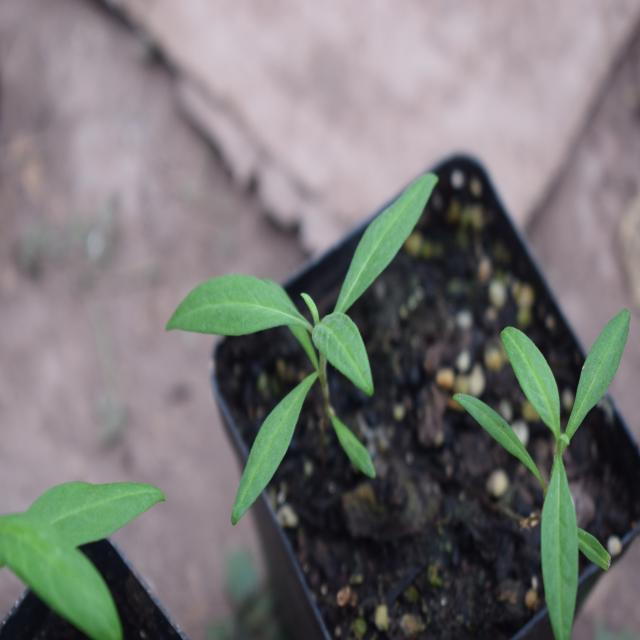white_smart_weed: (158, 161, 444, 548), (466, 284, 626, 618)
